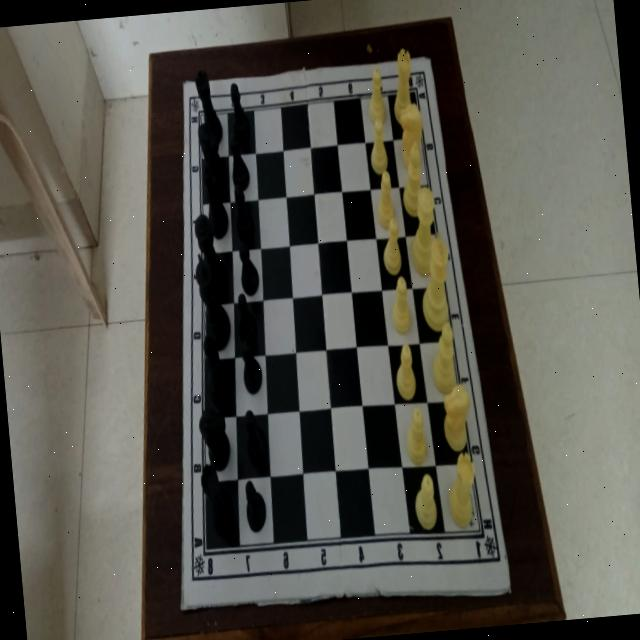corners: (174, 592, 194, 624), (175, 70, 192, 95), (422, 47, 437, 75), (504, 577, 516, 598)
